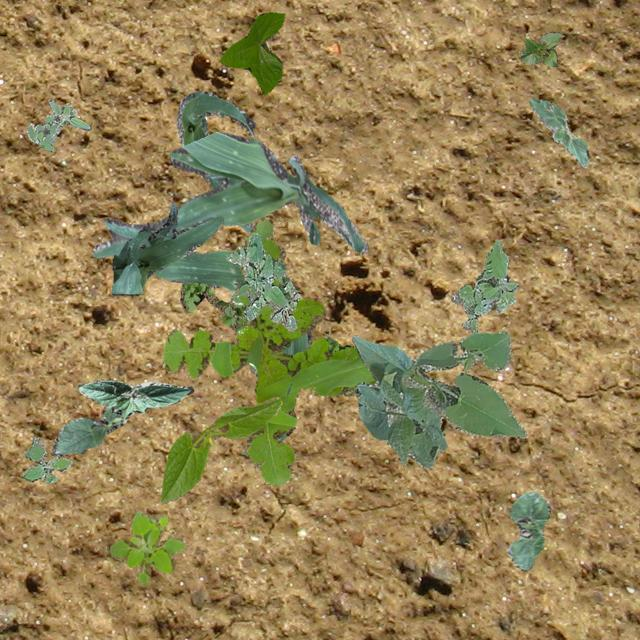crop: (90, 130, 368, 256), (152, 250, 312, 440), (350, 330, 526, 468), (160, 396, 280, 502), (176, 90, 254, 232), (110, 202, 222, 294), (218, 12, 284, 94), (76, 378, 192, 418), (528, 96, 588, 166), (52, 404, 126, 456), (506, 490, 550, 570), (229, 291, 255, 368), (518, 30, 564, 66)
weed: (160, 216, 374, 484), (180, 280, 350, 352), (228, 232, 298, 331), (450, 238, 518, 334), (109, 510, 184, 582), (26, 98, 90, 150), (22, 436, 72, 482)
